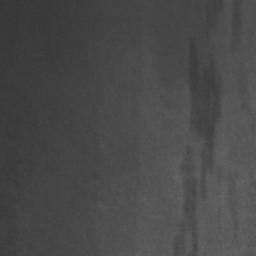Inclusion: (187, 38, 224, 173), (179, 145, 198, 220), (173, 230, 189, 256)
